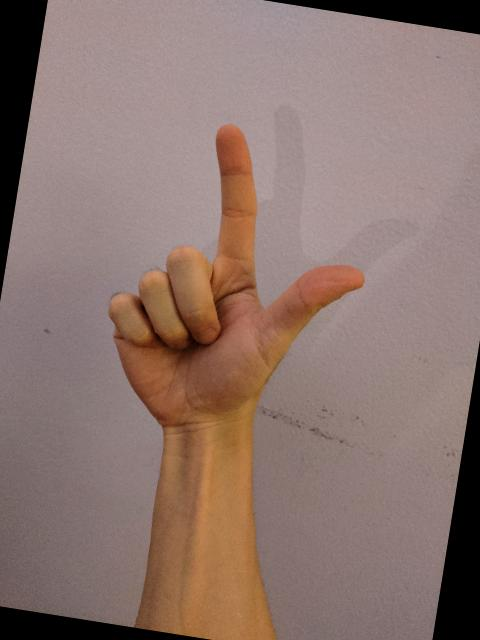L: (84, 102, 396, 461)
